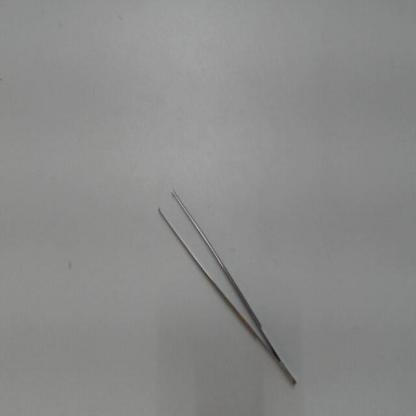Gillies Toothed Dissector: (156, 169, 304, 397)
